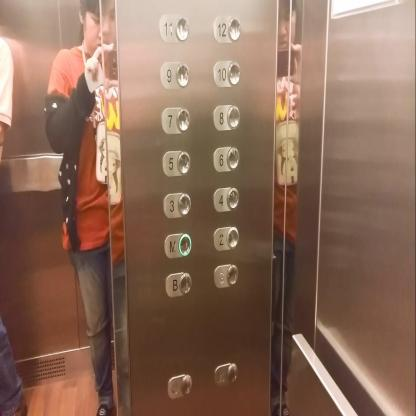10: (211, 58, 241, 89)
11: (157, 11, 190, 44)
12: (212, 11, 242, 44)
2: (211, 225, 240, 252)
3: (162, 191, 191, 220)
4: (211, 186, 240, 213)
5: (160, 148, 190, 178)
6: (211, 144, 240, 172)
7: (160, 105, 192, 135)
8: (211, 103, 240, 132)
9: (158, 59, 190, 91)
B: (164, 269, 192, 299)
G: (211, 262, 238, 290)
M: (162, 232, 192, 259)
close: (212, 362, 238, 390)
open: (165, 371, 193, 401)
